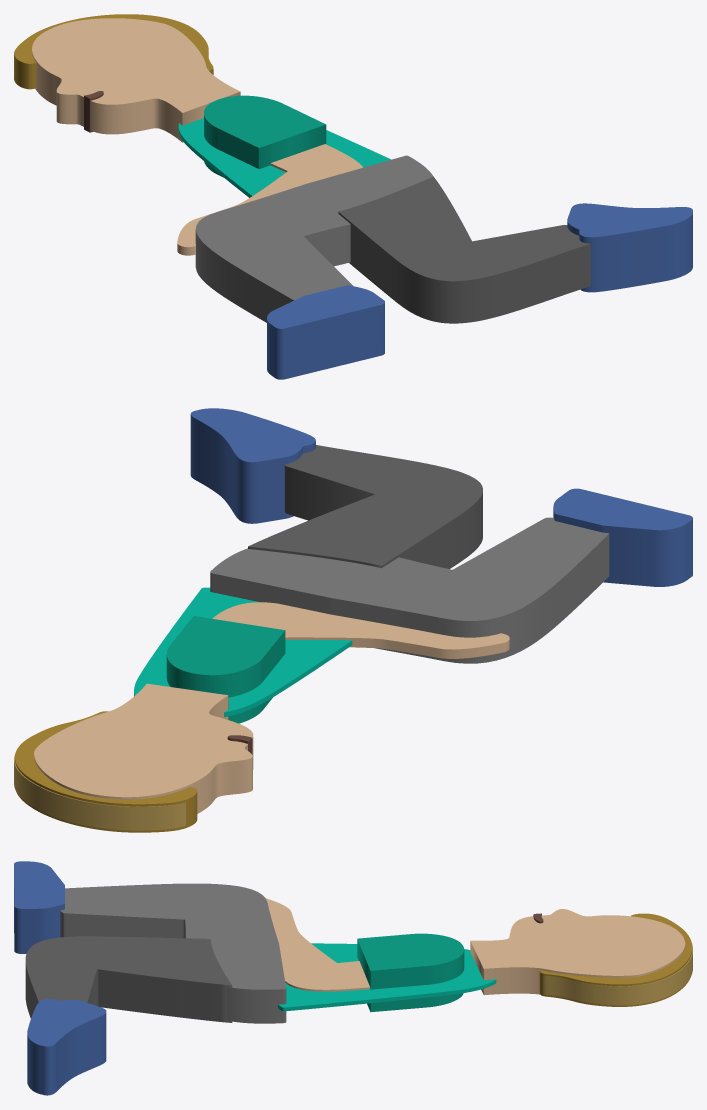
The model's file is emoji_u1f9ce_1f3fc_200d_2642.glb.
3 views of the same model, one above another, from view 1: azimuth 30°, elevation 25°; view 2: azimuth 150°, elevation 25°; view 3: azimuth 270°, elevation 25° (orthographic). The views are drawn at different scales.
Parts seen in each view (by area): view 1: emoji_u1f9ce_1f3fc_200d_2642; view 2: emoji_u1f9ce_1f3fc_200d_2642; view 3: emoji_u1f9ce_1f3fc_200d_2642.
Boxes of the visible parts, x1,y1,x2,y2 form: emoji_u1f9ce_1f3fc_200d_2642: [14, 14, 692, 379]; emoji_u1f9ce_1f3fc_200d_2642: [14, 408, 692, 832]; emoji_u1f9ce_1f3fc_200d_2642: [14, 861, 692, 1095].
Size of the model in its own units: 0.0213 by 0.0026 by 0.0327.
